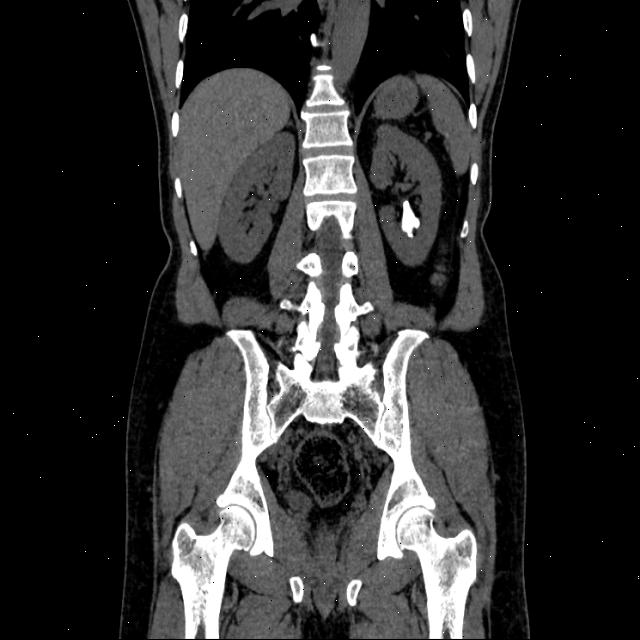kidneystone: (402, 201, 420, 237)
